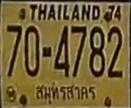0: (25, 25, 40, 77)
2: (107, 26, 124, 79)
4: (53, 25, 69, 76)
7: (70, 26, 86, 77), (6, 24, 21, 77)
8: (89, 26, 104, 76)
SKN: (31, 80, 101, 105)
